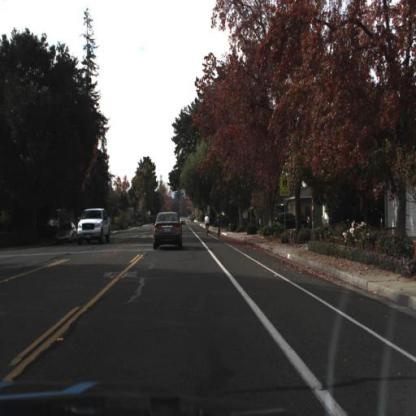biker: (204, 213, 212, 238), (216, 214, 221, 238)
car: (77, 209, 112, 246), (154, 211, 183, 252), (272, 211, 310, 234)
